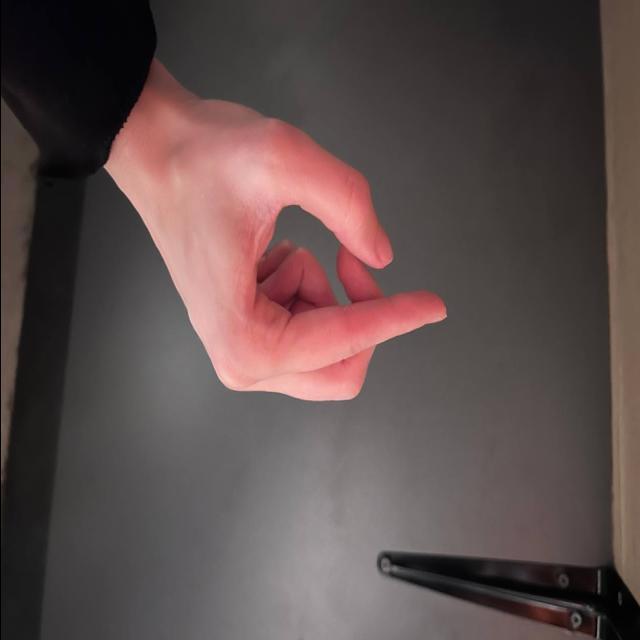b: (187, 109, 460, 398)
